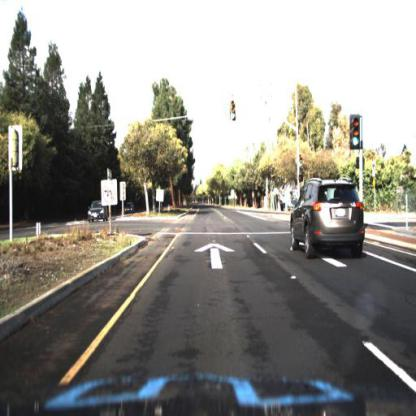car: (290, 179, 367, 262), (84, 198, 111, 223), (125, 200, 139, 218), (125, 202, 137, 218)
trafficLight-Green: (230, 97, 239, 122), (230, 99, 237, 124), (299, 153, 304, 170)
